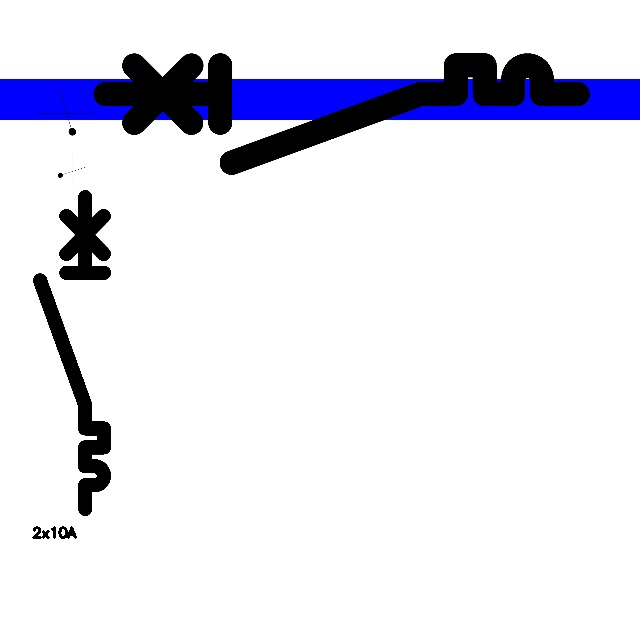interruptor_termomagnetico: (93, 53, 590, 174), (32, 189, 112, 517)
